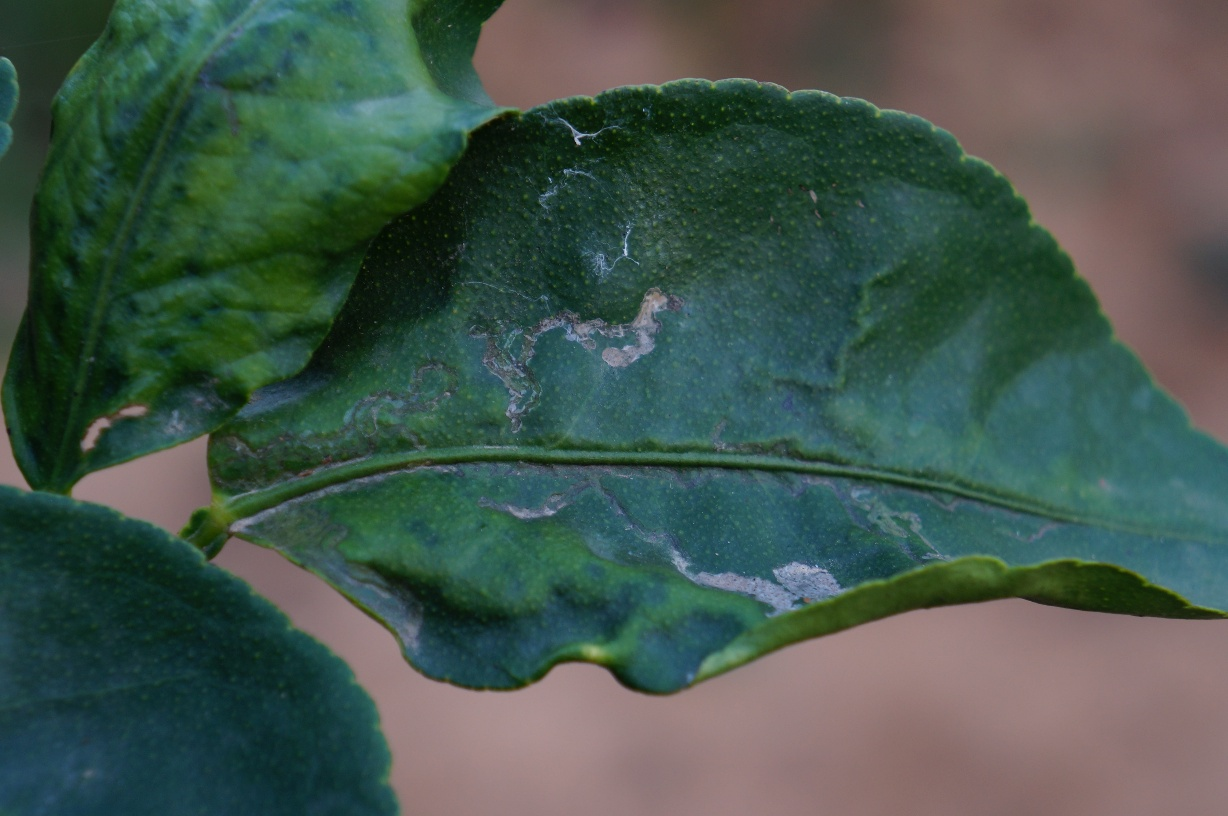damage: (444, 279, 702, 447), (208, 350, 467, 503), (470, 438, 671, 561), (662, 526, 864, 634)
